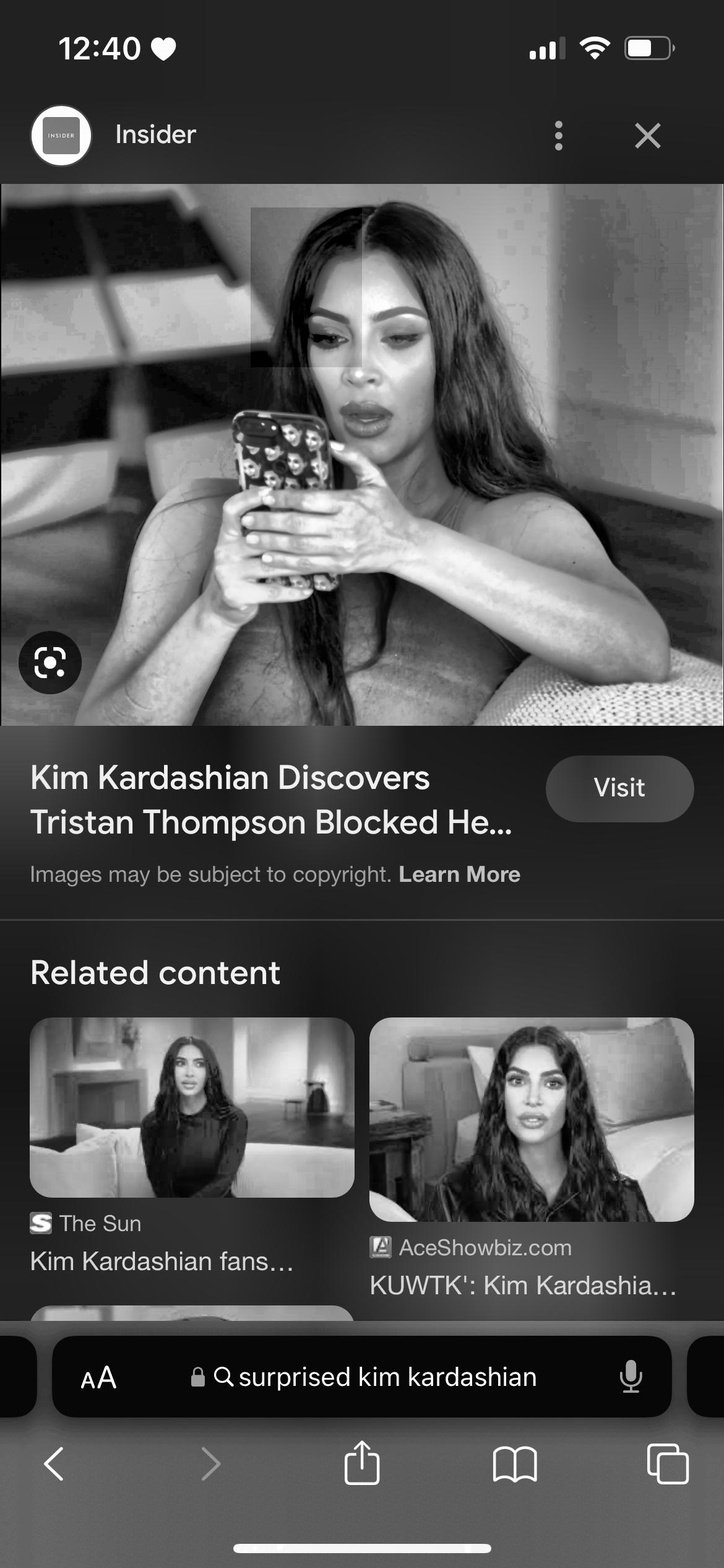surprised: (310, 256, 448, 454)
